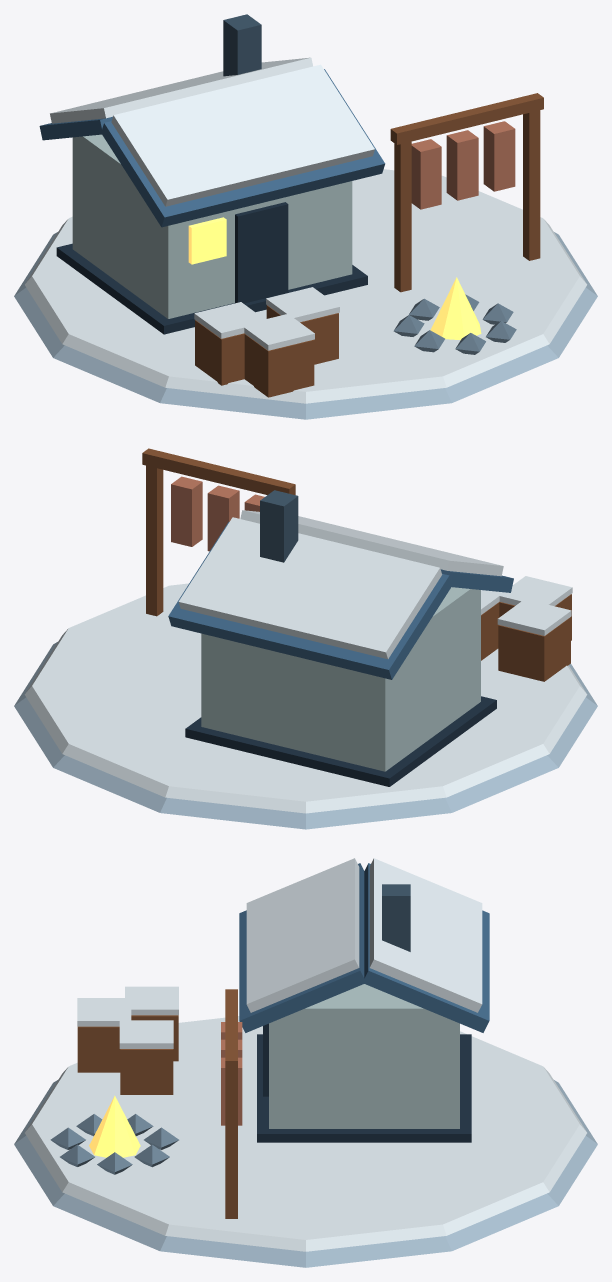
The model's file is res_food.glb.
The picture shows the model from 3 angles, top to bottom: view 1: azimuth 30°, elevation 25°; view 2: azimuth 150°, elevation 25°; view 3: azimuth 270°, elevation 25°; orthographic projection.
Visible parts, largest first — view 1: resource_food; view 2: resource_food; view 3: resource_food.
Part boxes in pixels (box(x1,y1,x2,y2)): resource_food: box(14, 14, 597, 419); resource_food: box(14, 448, 597, 829); resource_food: box(14, 858, 597, 1267).
Bounding box in the file's own units: 5.5 × 2.55 × 5.5.
